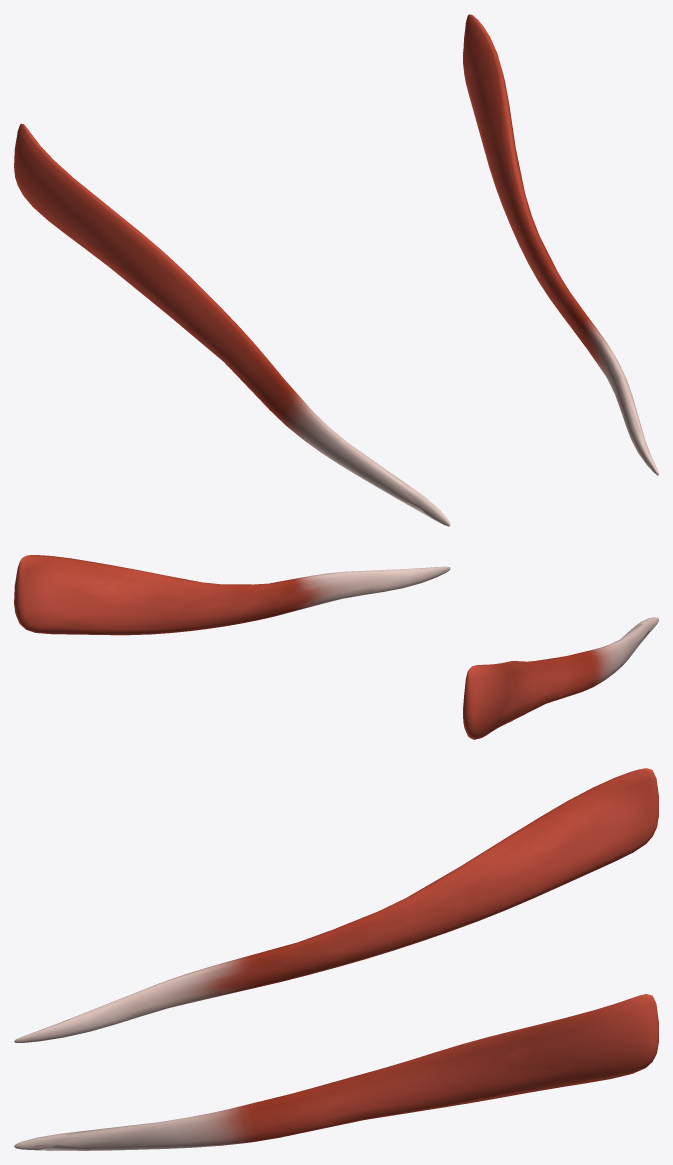
File: Depressor labii superioris.fbx
3 views of the same model, one above another, from view 1: azimuth 30°, elevation 25°; view 2: azimuth 150°, elevation 25°; view 3: azimuth 270°, elevation 25° (orthographic). The views are drawn at different scales.
Parts seen in each view (by area): view 1: Depressor labii superioris, Depressor labii superioris low; view 2: Depressor labii superioris, Depressor labii superioris low; view 3: Depressor labii superioris, Depressor labii superioris low.
Part boxes in pixels (x1=…): Depressor labii superioris: x1=14, y1=14, x2=658, y2=526; Depressor labii superioris low: x1=15, y1=16, x2=653, y2=518; Depressor labii superioris: x1=14, y1=555, x2=658, y2=739; Depressor labii superioris low: x1=14, y1=555, x2=655, y2=739; Depressor labii superioris: x1=14, y1=768, x2=658, y2=1150; Depressor labii superioris low: x1=23, y1=771, x2=658, y2=1150.
Bounding box in the file's own units: 8.83 × 3.79 × 10.3.
Materials: 1 (1 with a texture image).
